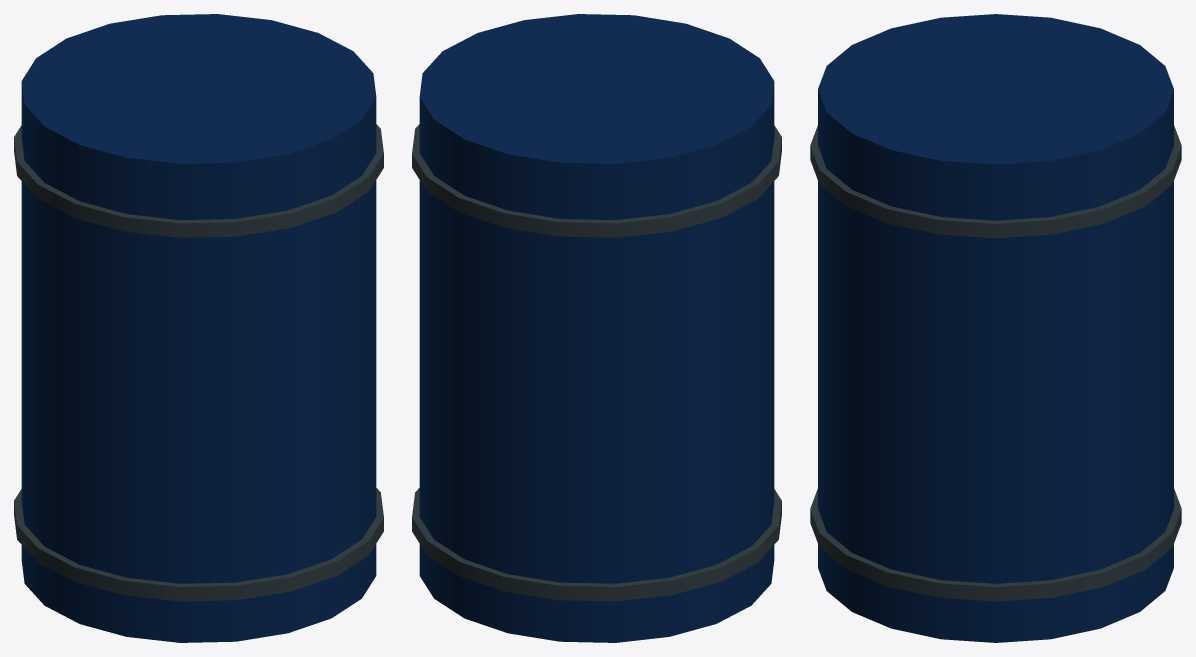
File: FactoryBarrel.fbx
3 renders of one model, left to right at view 1: azimuth 30°, elevation 25°; view 2: azimuth 150°, elevation 25°; view 3: azimuth 270°, elevation 25°, orthographic.
Parts seen in each view (by area): view 1: FactoryBarrel; view 2: FactoryBarrel; view 3: FactoryBarrel.
Part boxes in pixels (x1=…): FactoryBarrel: x1=14, y1=14, x2=383, y2=642; FactoryBarrel: x1=412, y1=14, x2=781, y2=642; FactoryBarrel: x1=810, y1=14, x2=1181, y2=642.
Bounding box in the file's own units: 58.4 × 58.4 × 83.
